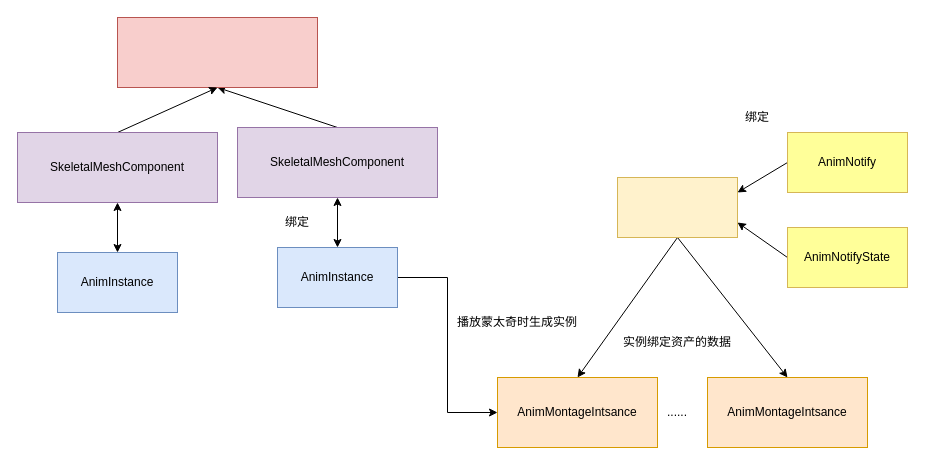
The diagram is 925 pixels wide and 465 high, and some of its shapes have lost their labels. Each missing label, with the centre of its shape:
Actor: pixel 217 52
AnimMontage: pixel 677 207
